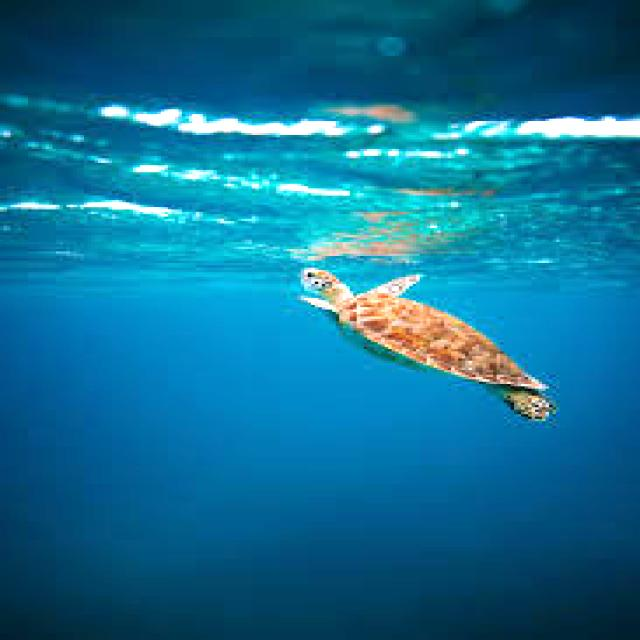Sea turtle: (254, 258, 600, 439)
